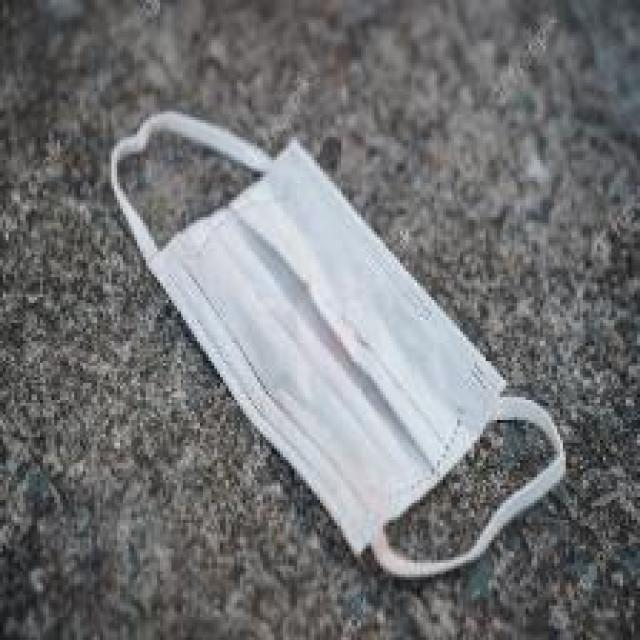Mask: (119, 72, 577, 576)
